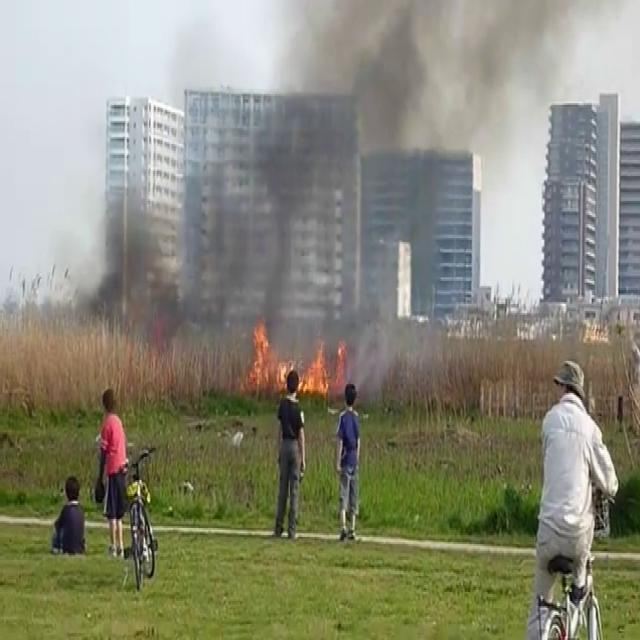Fire: (245, 316, 346, 400)
Smoke: (198, 0, 546, 356), (90, 164, 294, 354)
